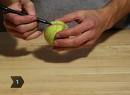tennis ball: (42, 20, 74, 49)
